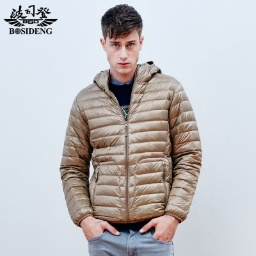face: (97, 3, 143, 75)
